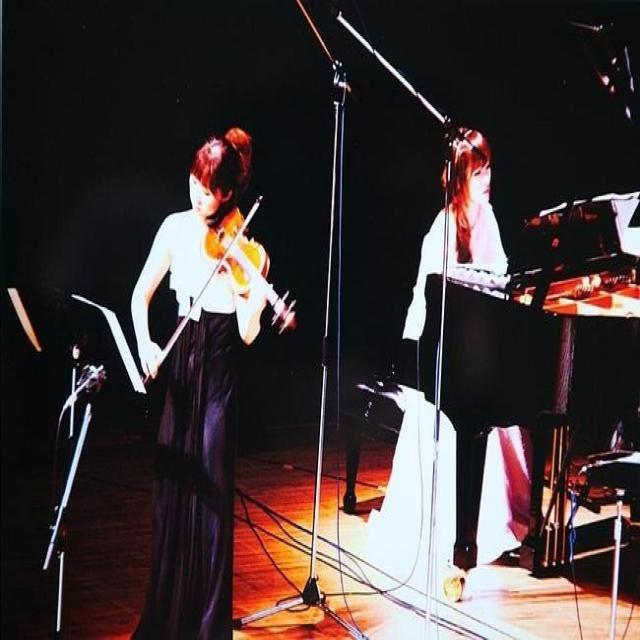violin: (203, 205, 300, 336)
